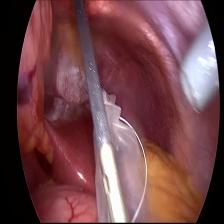Grasper: (100, 147, 130, 224)
Specimen Bag: (87, 83, 158, 224)
